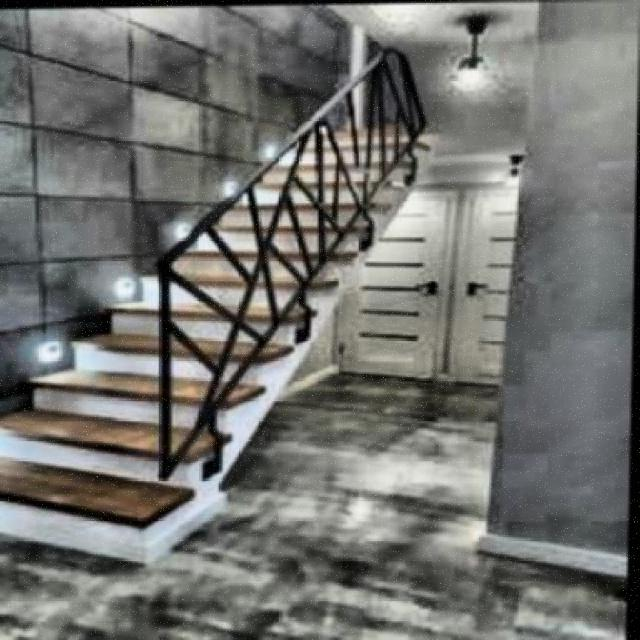stair: (2, 125, 446, 558)
